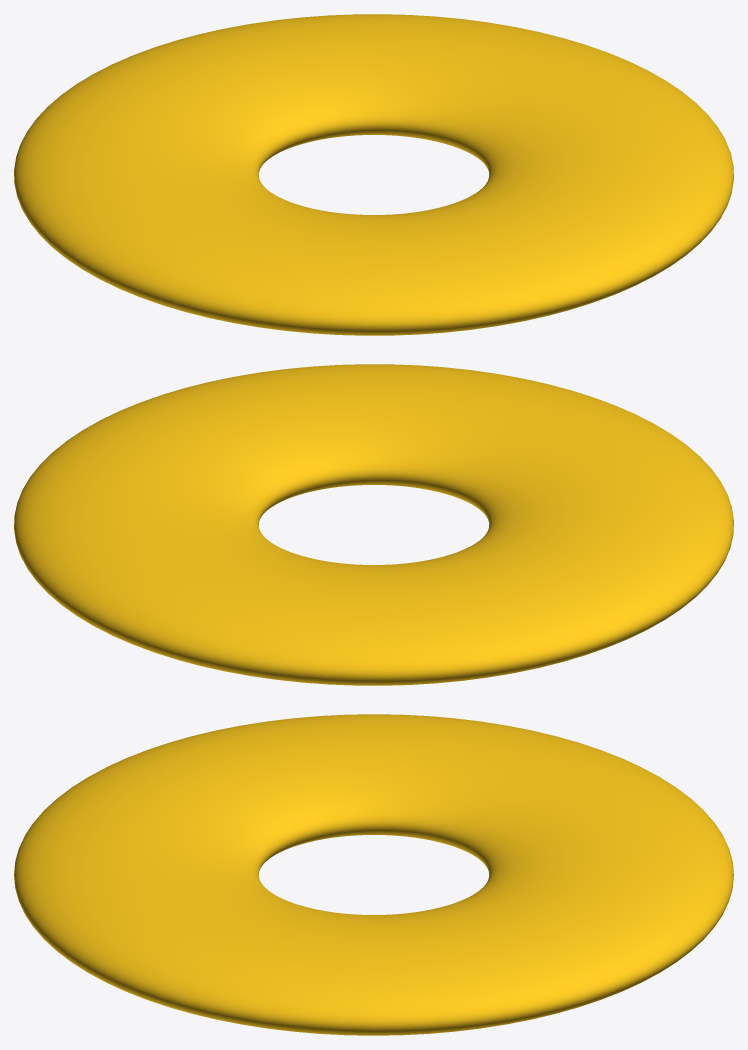
File: Selector.fbx
3 views of the same model, one above another, from view 1: azimuth 30°, elevation 25°; view 2: azimuth 150°, elevation 25°; view 3: azimuth 270°, elevation 25° (orthographic).
Visible parts, largest first — view 1: mesh_id19; view 2: mesh_id19; view 3: mesh_id19.
Boxes of the visible parts, x1,y1,x2,y2 form: mesh_id19: [14, 14, 733, 335]; mesh_id19: [14, 364, 733, 685]; mesh_id19: [14, 714, 733, 1035].
Bounding box in the file's own units: 100 × 9.53 × 100.
1 material, 1 textured.
